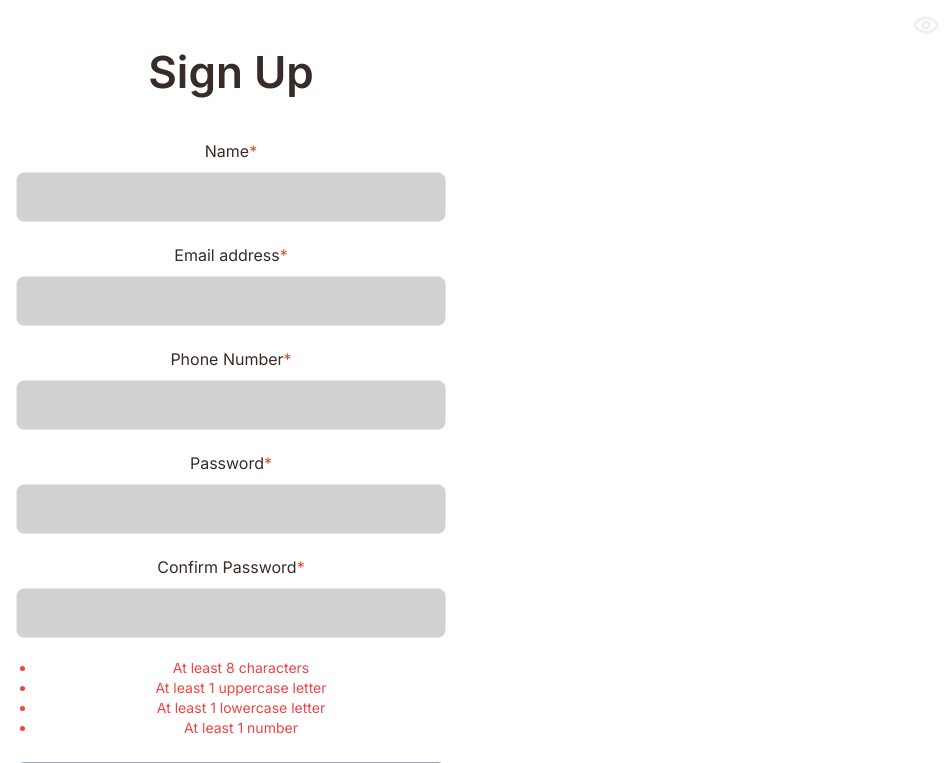
Test case: SignupForm › enables the register button if all fields are valid
Type "Nicky" into the field labelled "Name*". click: (231,197)
box: [16, 172, 446, 222]
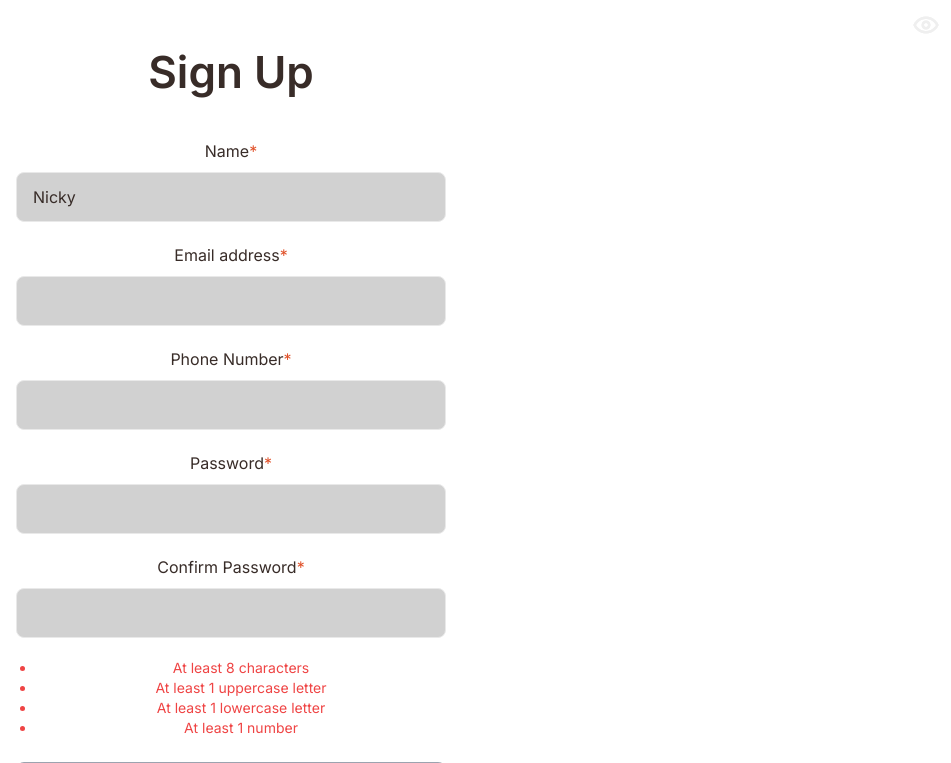
Type "nicky@example.com" into the field labelled "Email address*". click: (231,301)
box: [16, 276, 446, 326]
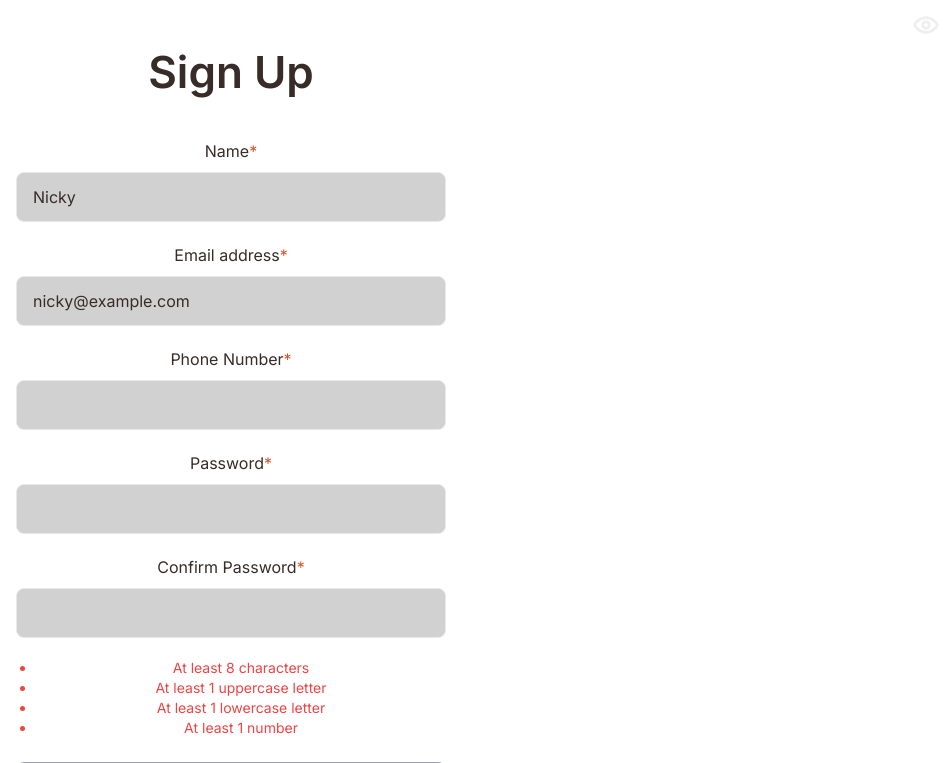
Type "Password1" into the password field labelled "Password*". click: (231,509)
box: [16, 484, 446, 534]
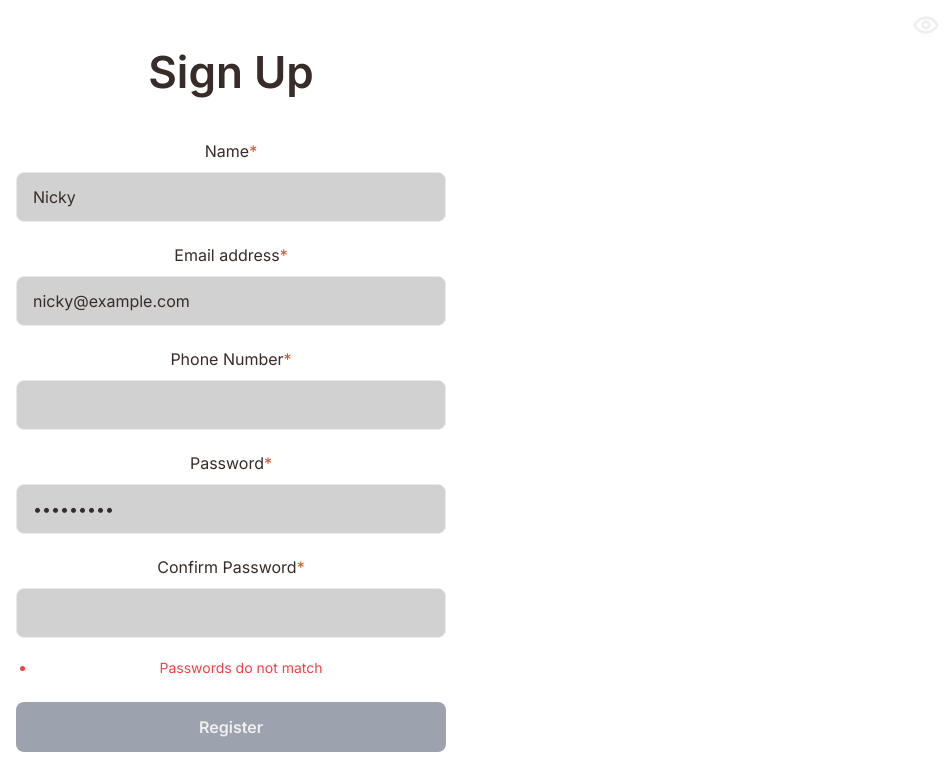
Type "Password1" into the password field labelled "Confirm Password*". click: (231,613)
box: [16, 588, 446, 638]
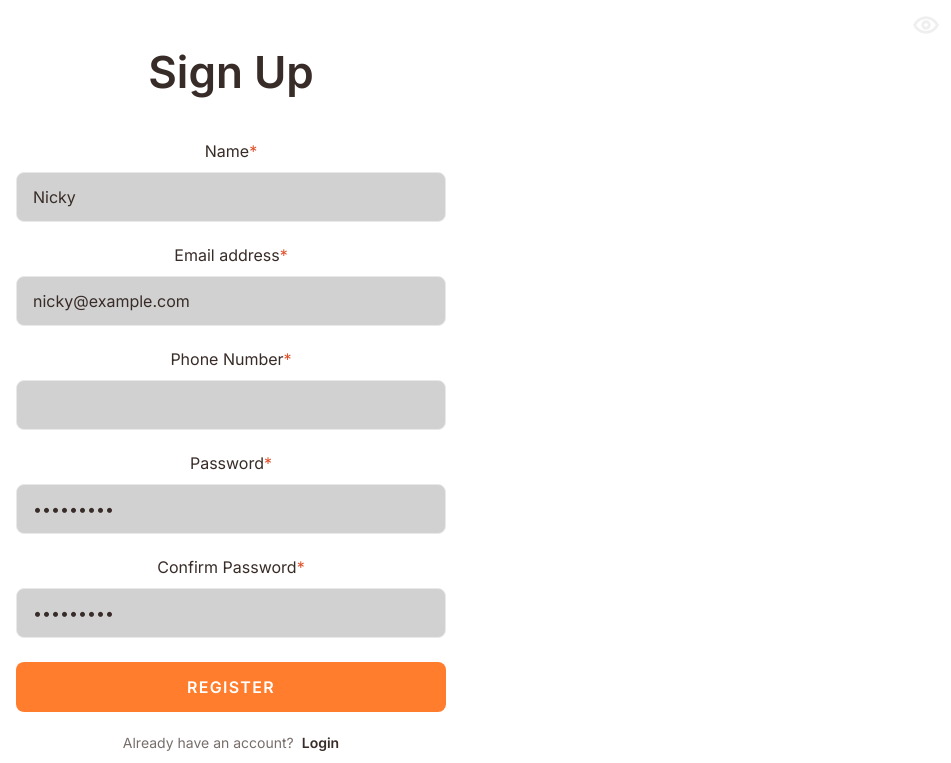
Now the button "Register" is enabled, box [16, 662, 446, 712]
